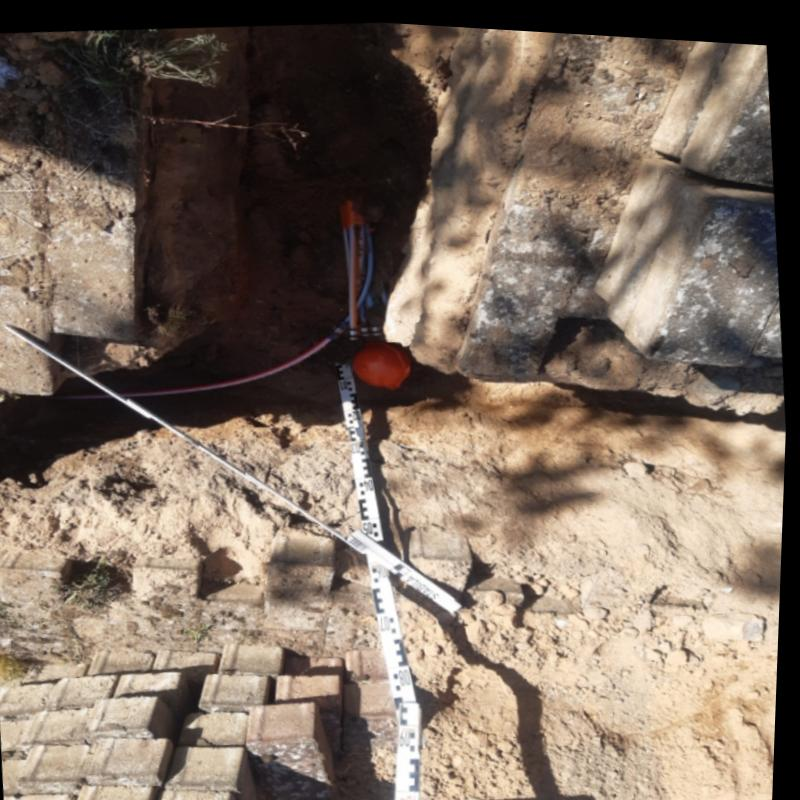Kugelmarker: (356, 337, 413, 384)
